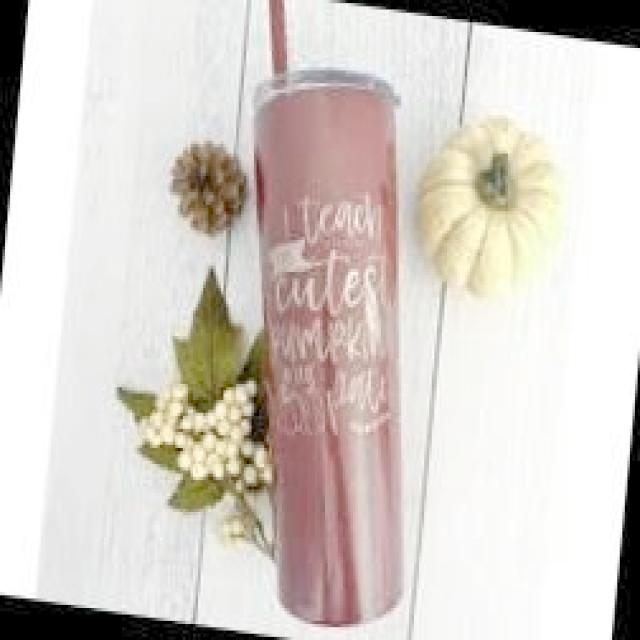bottle: (201, 0, 462, 640)
